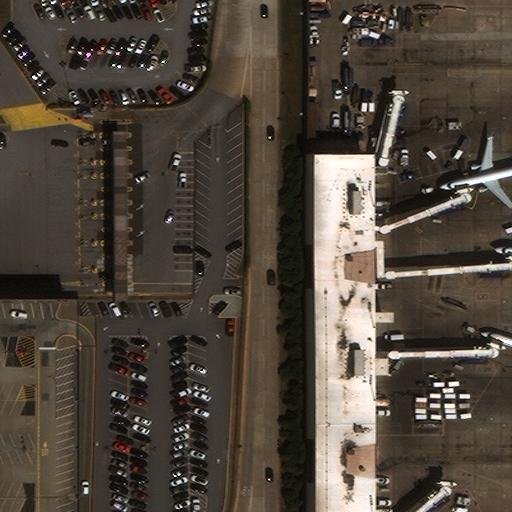Medium Civil Transport: (439, 137, 512, 209)
